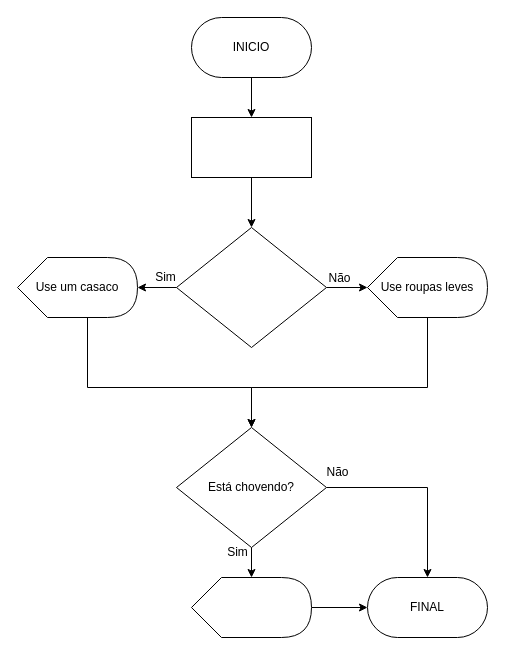
This 505x655 diagram has some shape labels left out. The shapes that lost their labels are listed below. From the top down, each one's centre as x and y in pixels, then its label:
At [251,147]: "Verificar como está o tempo (frio ou quente)".
At [251,287]: "O tempo está frio?".
At [251,607]: "Use um guarda-chuva".
